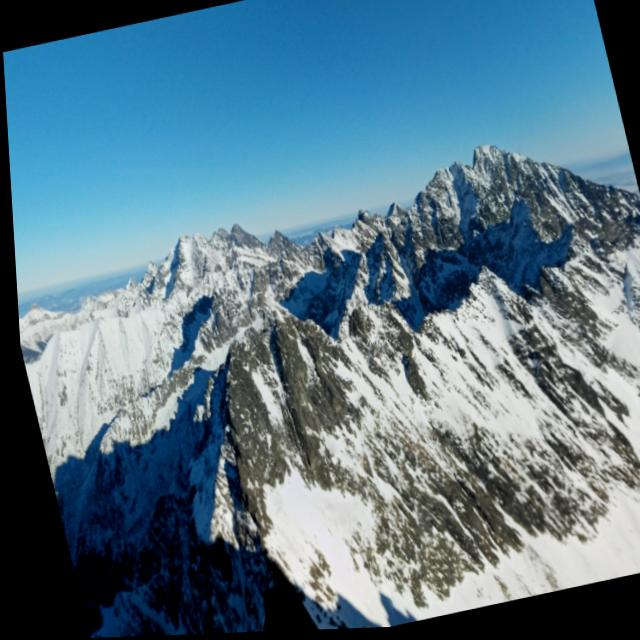Bradavica: (339, 187, 384, 233)
Ganek: (177, 214, 364, 405)
Gerlachovsky Stit: (421, 114, 525, 189)
Lomnicki Stit: (213, 204, 255, 246)
Slavkovsky Stit: (371, 181, 414, 224)
